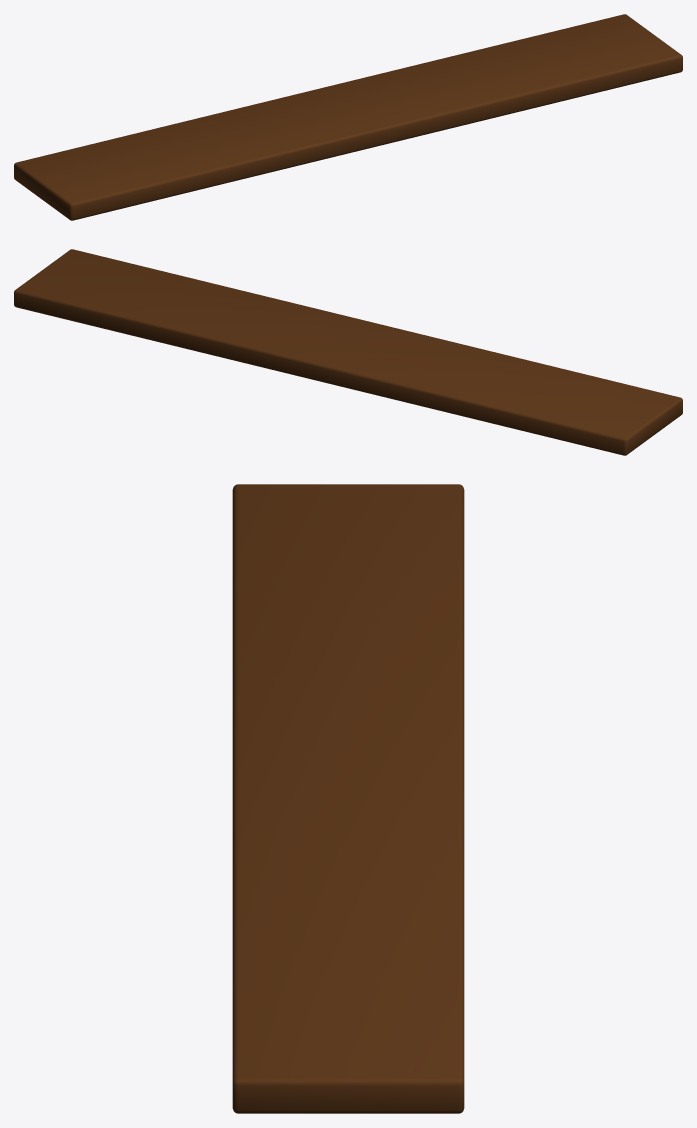
Rendered from floor-plank.obj.
The picture shows the model from 3 angles, top to bottom: view 1: azimuth 30°, elevation 25°; view 2: azimuth 150°, elevation 25°; view 3: azimuth 270°, elevation 25°; orthographic projection. The views are drawn at different scales.
Visible parts, largest first — view 1: floor-plank; view 2: floor-plank; view 3: floor-plank.
Part boxes in pixels (x1,y1,x2,y2): floor-plank: (14, 14, 682, 220); floor-plank: (14, 249, 682, 455); floor-plank: (232, 484, 464, 1113).
Size of the model in its own units: 2.2 by 0.06 by 0.36.
